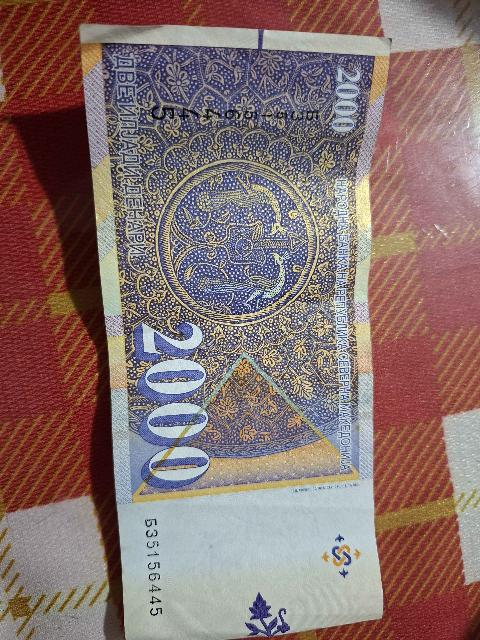2000_note: (82, 26, 389, 639)
